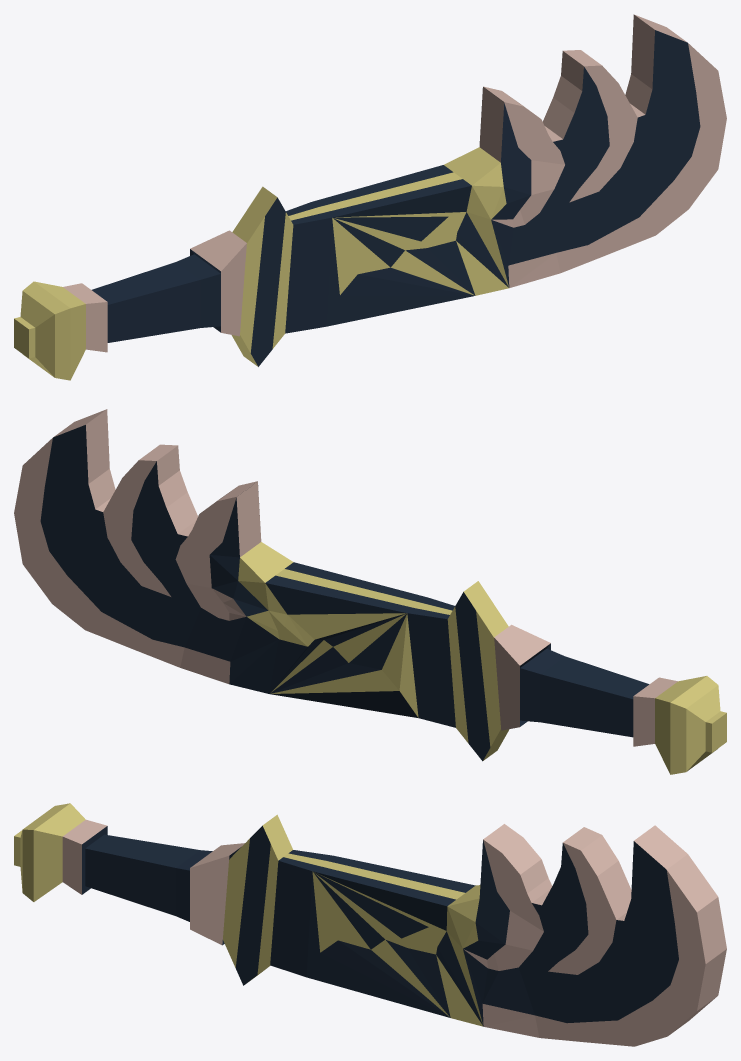
The model's file is ChargeSword.fbx.
3 renders of one model, top to bottom at view 1: azimuth 30°, elevation 25°; view 2: azimuth 150°, elevation 25°; view 3: azimuth 330°, elevation 25°, orthographic.
Visible parts, largest first — view 1: Cube; view 2: Cube; view 3: Cube.
Part boxes in pixels (left/top/right/bottom): Cube: left=14, top=14, right=726, bottom=380; Cube: left=14, top=409, right=726, bottom=774; Cube: left=14, top=803, right=726, bottom=1046.
Size of the model in its own units: 1984 by 664 by 182.
